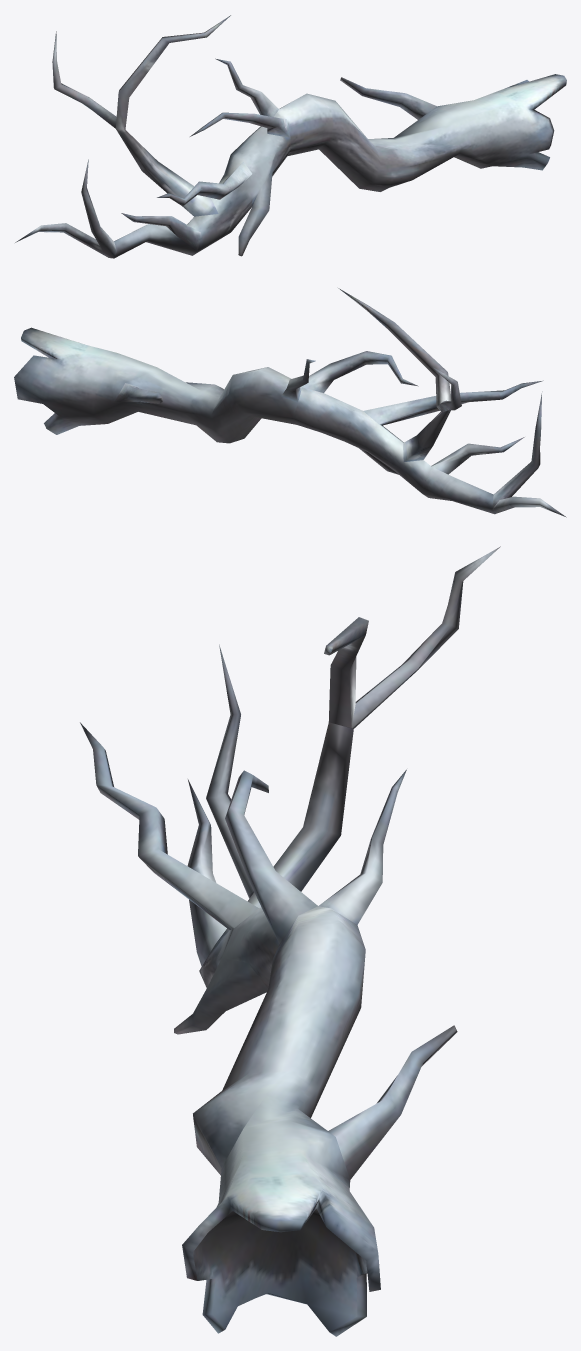
The model's file is LGhuangyuan_shu02.FBX.
3 views of the same model, one above another, from view 1: azimuth 30°, elevation 25°; view 2: azimuth 150°, elevation 25°; view 3: azimuth 270°, elevation 25° (orthographic). The views are drawn at different scales.
Visible parts, largest first — view 1: LGhuangyuan_shu02; view 2: LGhuangyuan_shu02; view 3: LGhuangyuan_shu02.
Part boxes in pixels (box(x1,y1,x2,y2)): LGhuangyuan_shu02: box(15, 15, 566, 258); LGhuangyuan_shu02: box(14, 288, 566, 517); LGhuangyuan_shu02: box(80, 546, 500, 1336).
Size of the model in its own units: 715 by 242 by 266.
